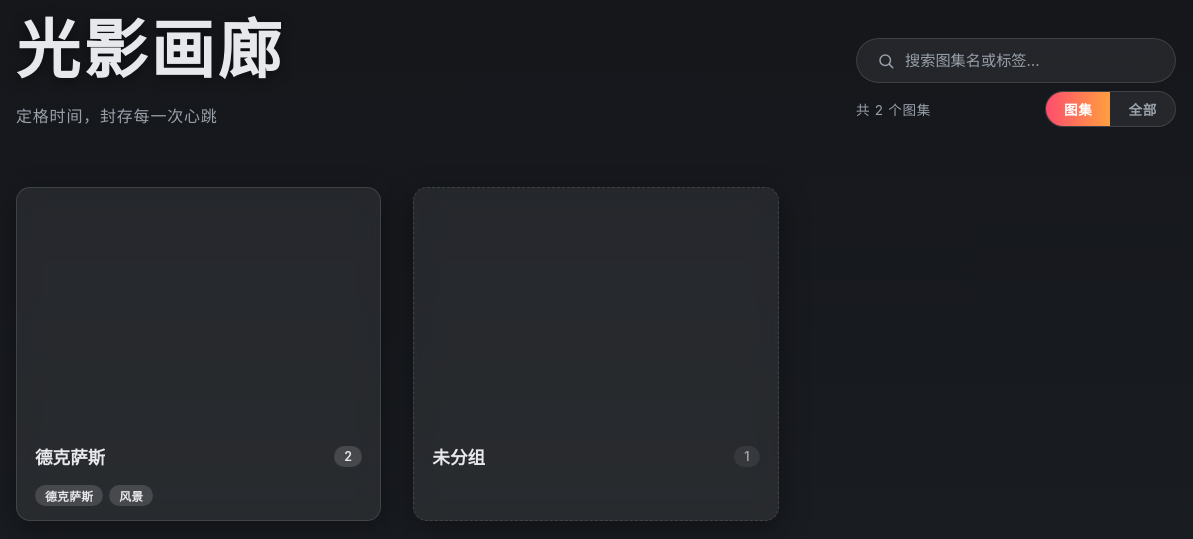
Test: GalleryView 图集模式 › 卡片渲染标签 chips,点击填入搜索框
The image size is (1193, 539).
What coordinates should you click on to do the following:
click the button with class "tag-chip" showing "风景"
I would click on:
 (131, 496)
Its box is [109,485,153,506].
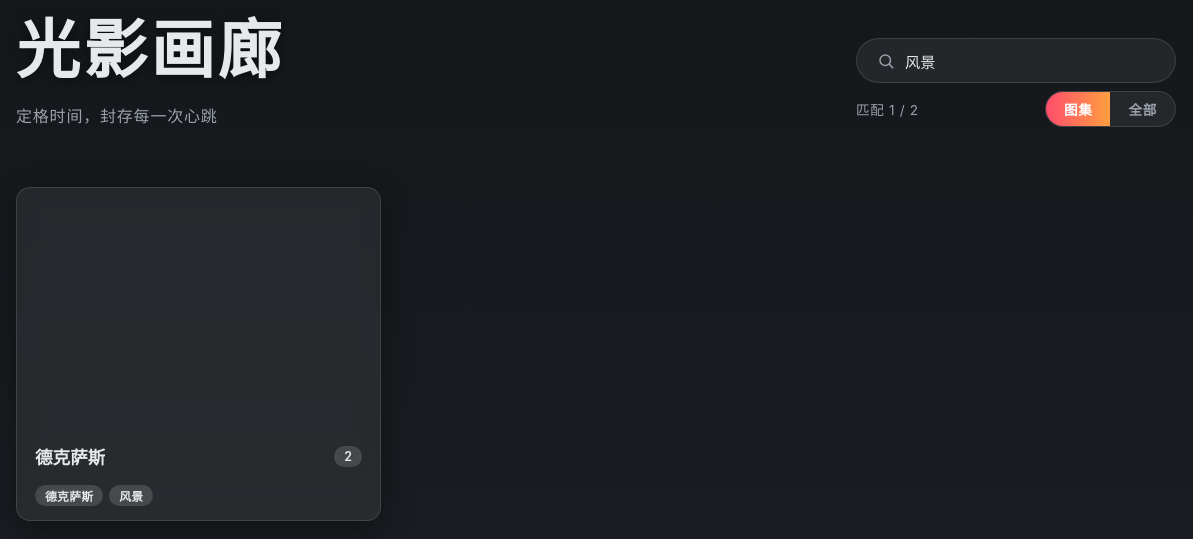
Expected: the field with class "search-input" holds "风景", [905,51,1155,70]
Expected: the text "匹配 1 / 2" is shown, [856,102,919,118]
